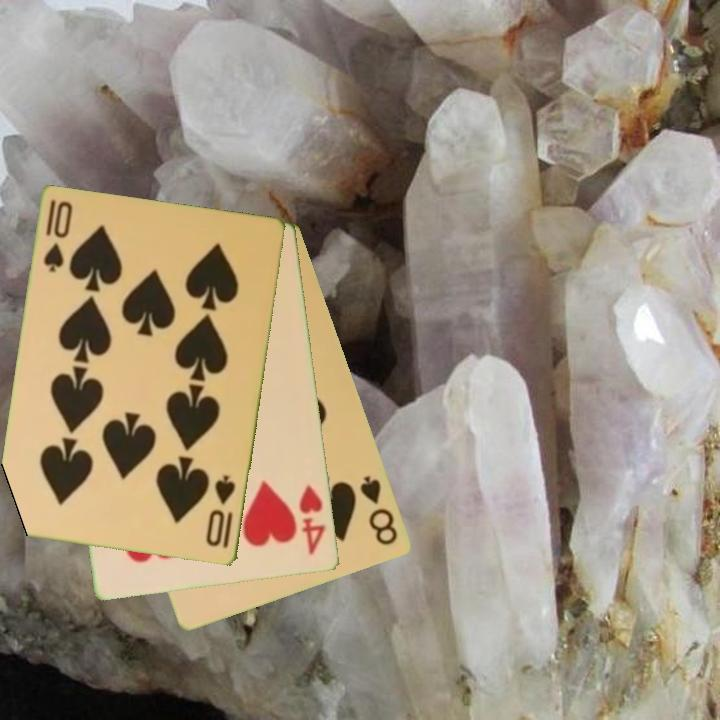10s: (203, 472, 239, 552), (40, 197, 76, 276)
4h: (296, 482, 329, 558)
8s: (357, 472, 401, 549)
